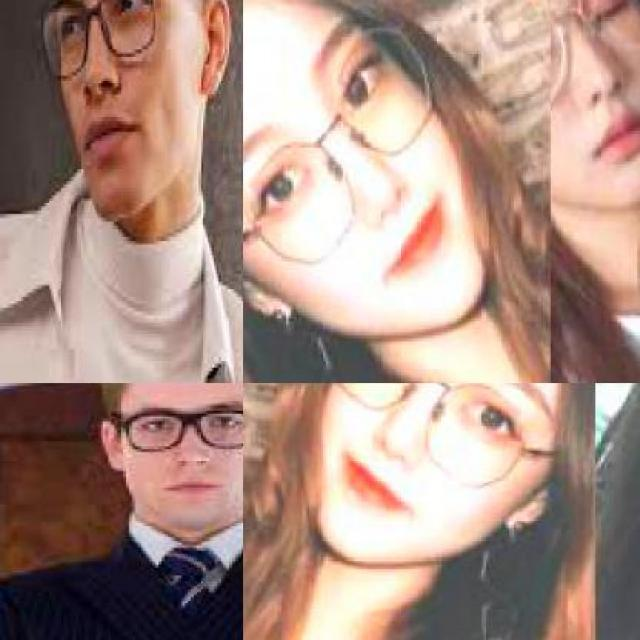glasses: (236, 34, 429, 270), (311, 382, 560, 490), (37, 0, 157, 82), (551, 0, 640, 95), (120, 397, 242, 460)
